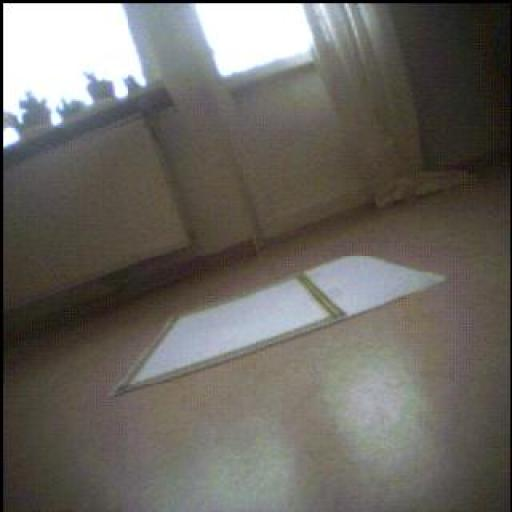Pad: (116, 257, 444, 395)
